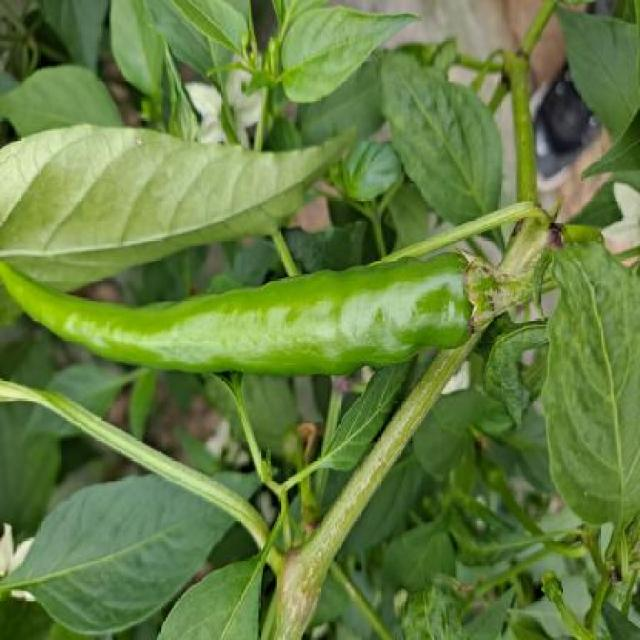green chilli: (2, 246, 503, 377)
